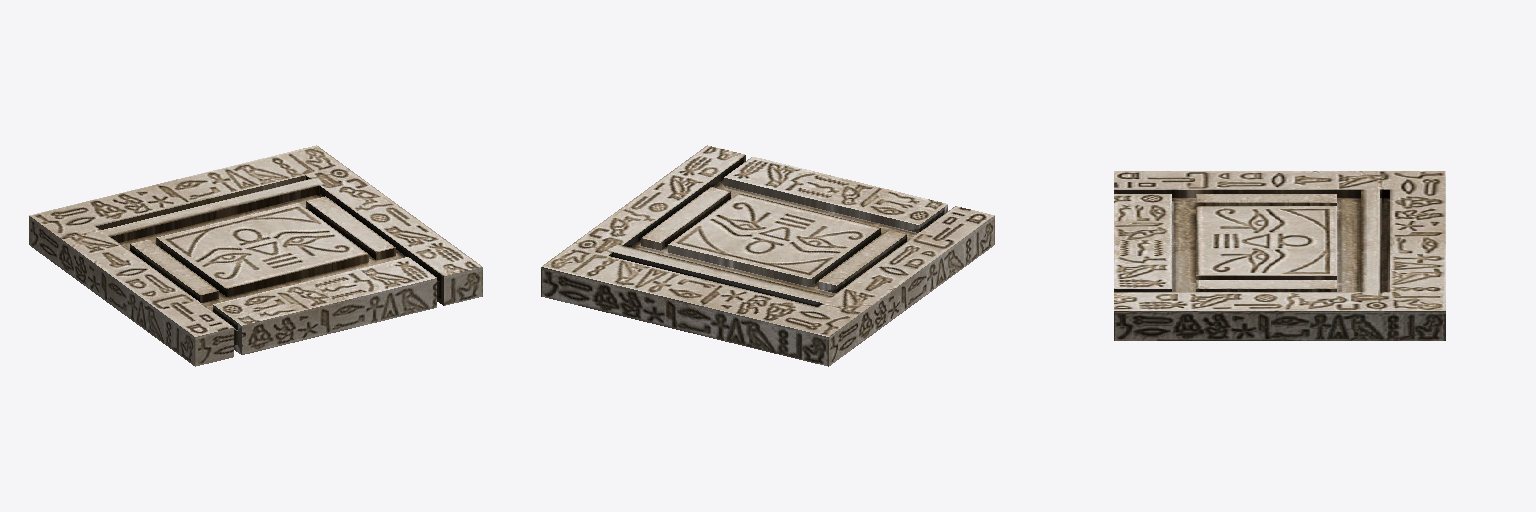
3 views of the same model, side by side, from view 1: azimuth 30°, elevation 25°; view 2: azimuth 150°, elevation 25°; view 3: azimuth 270°, elevation 25° (orthographic).
Visible parts, largest first — view 1: platform_1; view 2: platform_1; view 3: platform_1.
Boxes of the visible parts, box(x1,y1,x2,y2) form: platform_1: box(29, 145, 482, 366); platform_1: box(541, 145, 994, 366); platform_1: box(1114, 171, 1445, 340).
Bounding box in the file's own units: 5 × 0.4929 × 5.
Materials: 1 (1 with a texture image).